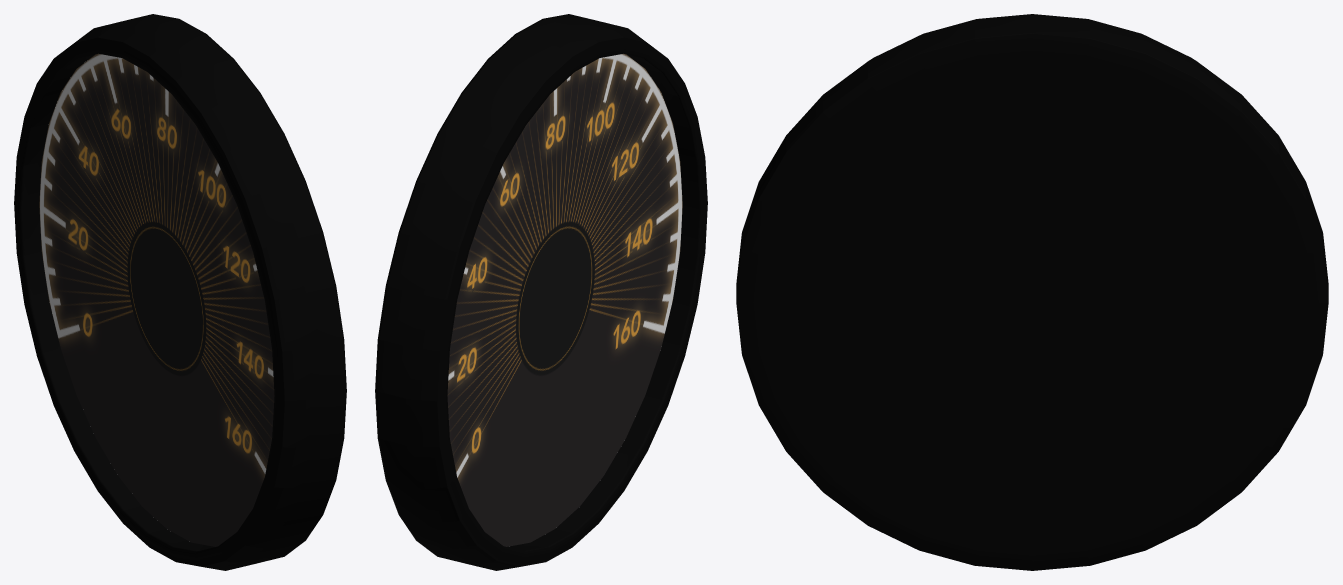
The picture shows the model from 3 angles, left to right: view 1: azimuth 30°, elevation 25°; view 2: azimuth 150°, elevation 25°; view 3: azimuth 270°, elevation 25°; orthographic projection. The views are drawn at different scales.
Parts seen in each view (by area): view 1: Cylinder.012; view 2: Cylinder.012; view 3: Cylinder.012.
Boxes of the visible parts, x1,y1,x2,y2 form: Cylinder.012: (14,14,346,570); Cylinder.012: (375,14,707,570); Cylinder.012: (736,14,1328,570).
Size of the model in its own units: 0.2534 by 2 by 2.
2 materials, 1 textured.
